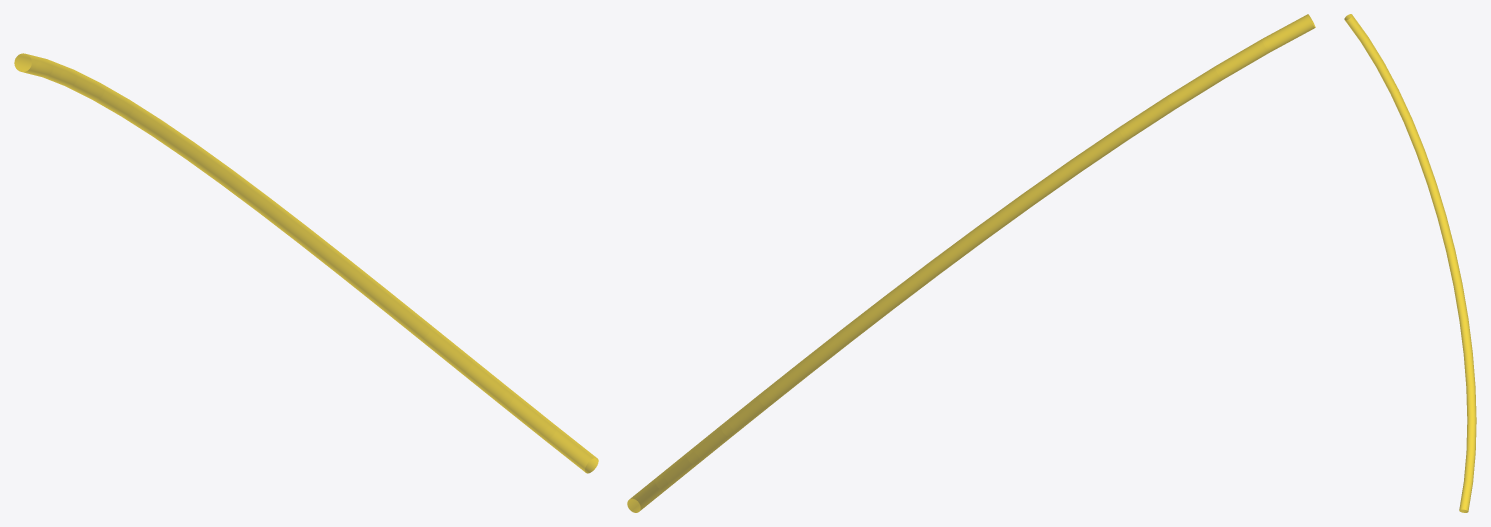
Rendered from Event_17758602_track_139.fbx.
The picture shows the model from 3 angles, left to right: view 1: azimuth 30°, elevation 25°; view 2: azimuth 150°, elevation 25°; view 3: azimuth 270°, elevation 25°; orthographic projection. The views are drawn at different scales.
Parts seen in each view (by area): view 1: Model; view 2: Model; view 3: Model.
Part boxes in pixels (<box>): Model: <box>14,53,598,473</box>; Model: <box>627,14,1315,512</box>; Model: <box>1344,14,1476,512</box>.
Bounding box in the file's own units: 1.71 × 1.57 × 0.5639.
